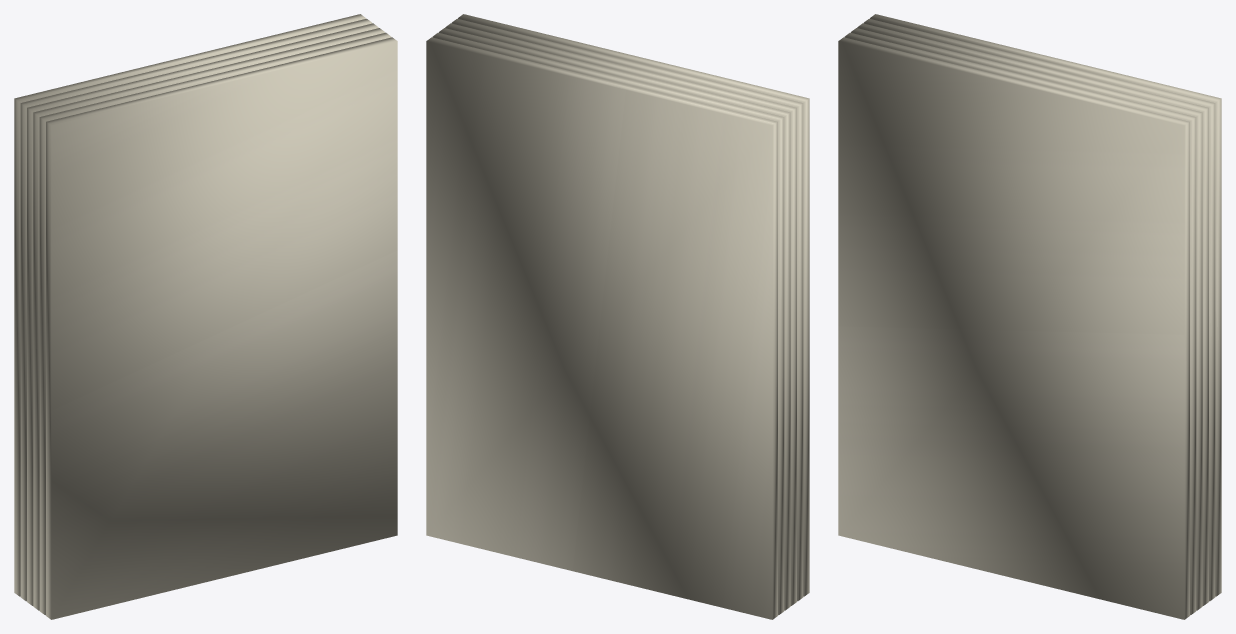
Rendered from PAPER_STACK_001.glb.
The picture shows the model from 3 angles, left to right: view 1: azimuth 30°, elevation 25°; view 2: azimuth 150°, elevation 25°; view 3: azimuth 330°, elevation 25°; orthographic projection.
Parts seen in each view (by area): view 1: paper_005, paper_002, paper_001, paper_004, paper_000, paper_003; view 2: paper_000, paper_003, paper_001, paper_004, paper_002, paper_005; view 3: paper_005, paper_002, paper_001, paper_004, paper_000, paper_003.
Boxes of the visible parts, left/top/right/bottom form: paper_005: left=46, top=37, right=397, bottom=619; paper_002: left=27, top=23, right=378, bottom=605; paper_001: left=20, top=18, right=372, bottom=601; paper_004: left=39, top=32, right=391, bottom=615; paper_000: left=14, top=14, right=365, bottom=596; paper_003: left=33, top=28, right=384, bottom=610; paper_000: left=426, top=37, right=777, bottom=619; paper_003: left=445, top=23, right=796, bottom=605; paper_001: left=432, top=32, right=784, bottom=615; paper_004: left=451, top=18, right=803, bottom=601; paper_002: left=439, top=28, right=790, bottom=610; paper_005: left=458, top=14, right=809, bottom=596; paper_005: left=838, top=37, right=1189, bottom=619; paper_002: left=857, top=23, right=1208, bottom=605; paper_001: left=863, top=18, right=1215, bottom=601; paper_004: left=844, top=32, right=1196, bottom=615; paper_000: left=870, top=14, right=1221, bottom=596; paper_003: left=851, top=28, right=1202, bottom=610.
Bounding box in the file's own units: 0.22 × 0.3 × 0.041.
1 material, 1 textured.
